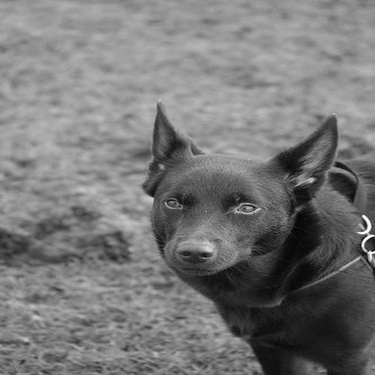dog: (138, 93, 372, 372)
